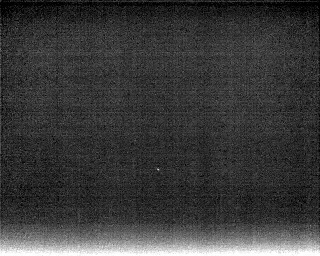BIRD: (155, 165, 162, 175)
